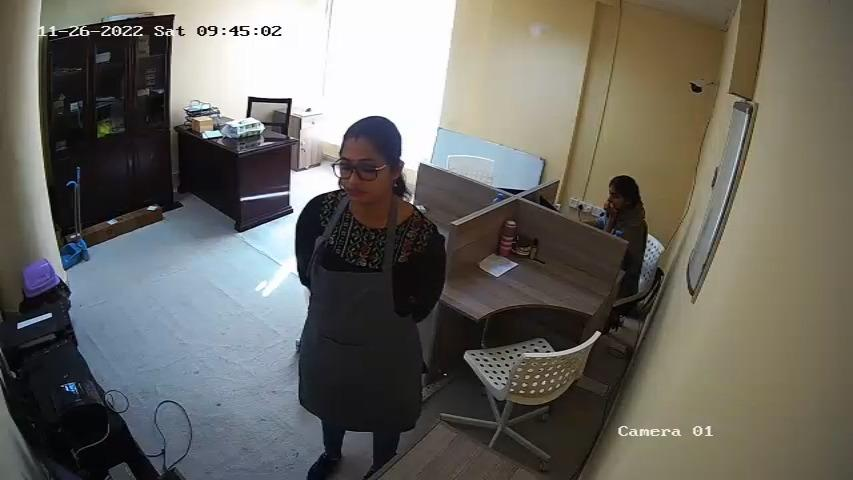apron: (304, 203, 414, 412)
